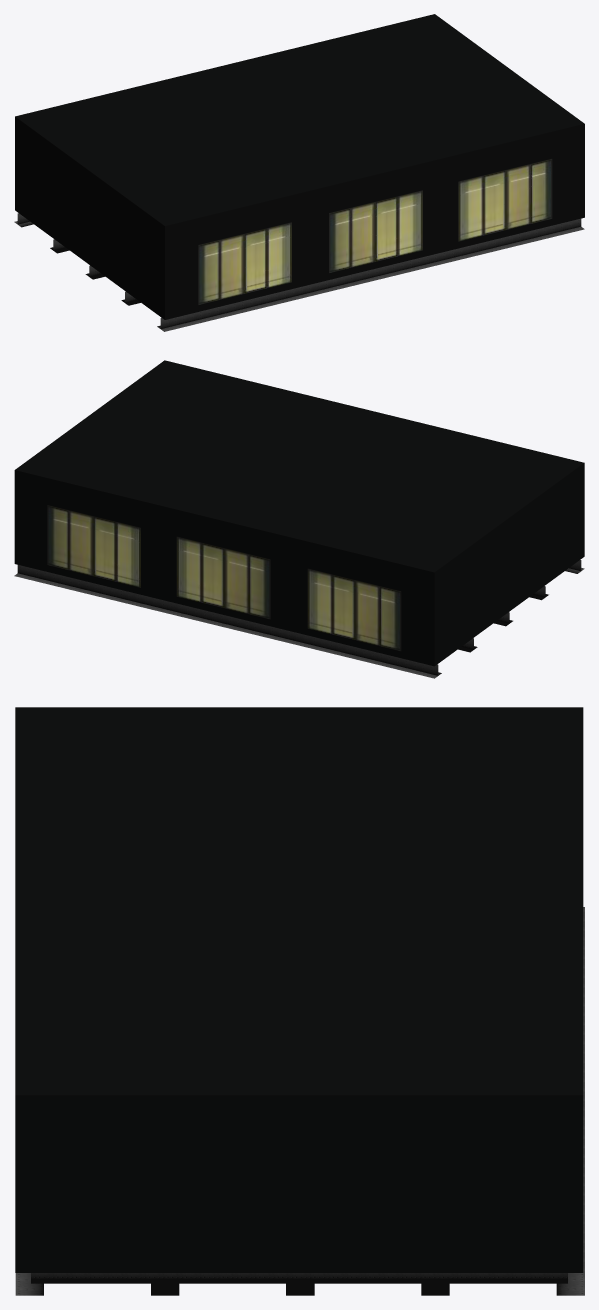
File: AMB_ST_UP.glb
3 views of the same model, one above another, from view 1: azimuth 30°, elevation 25°; view 2: azimuth 150°, elevation 25°; view 3: azimuth 270°, elevation 25° (orthographic). The views are drawn at different scales.
Visible parts, largest first — view 1: BASE; view 2: BASE; view 3: BASE.
Part boxes in pixels (<box>): BASE: <box>14,14,584,331</box>; BASE: <box>14,360,584,678</box>; BASE: <box>15,707,584,1295</box>.
Bounding box in the file's own units: 78.2 × 18.77 × 48.55.
4 materials, 4 textured.
